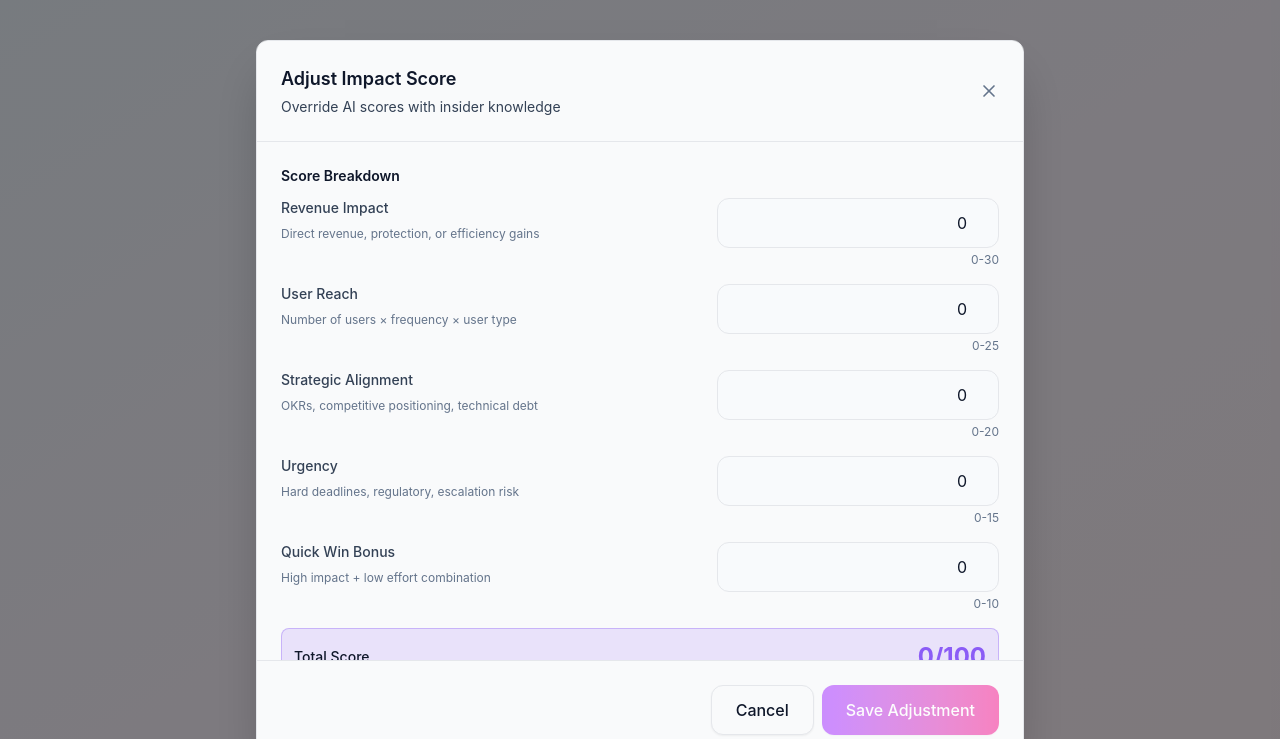
Test: ImpactAdjustmentModal › Score Breakdown Inputs › should calculate total score correctly when breakdown changes
# Set Revenue Impact to 20
Replace the text in the number field in the row of "Revenue Impact" with "20" at (858, 223), box [717, 198, 999, 248]
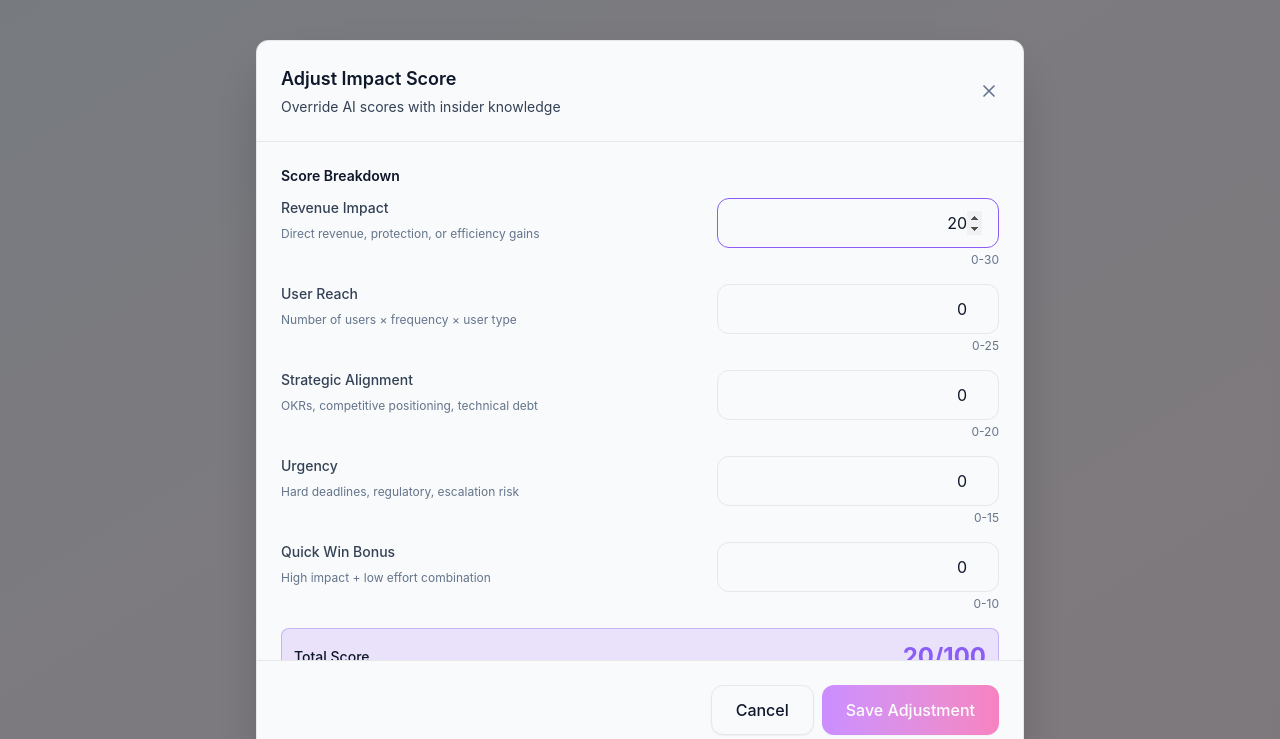
# Set User Reach to 15
Replace the text in the number field in the row of "Number of users × frequency × user type" with "15" at (858, 309), box [717, 284, 999, 334]
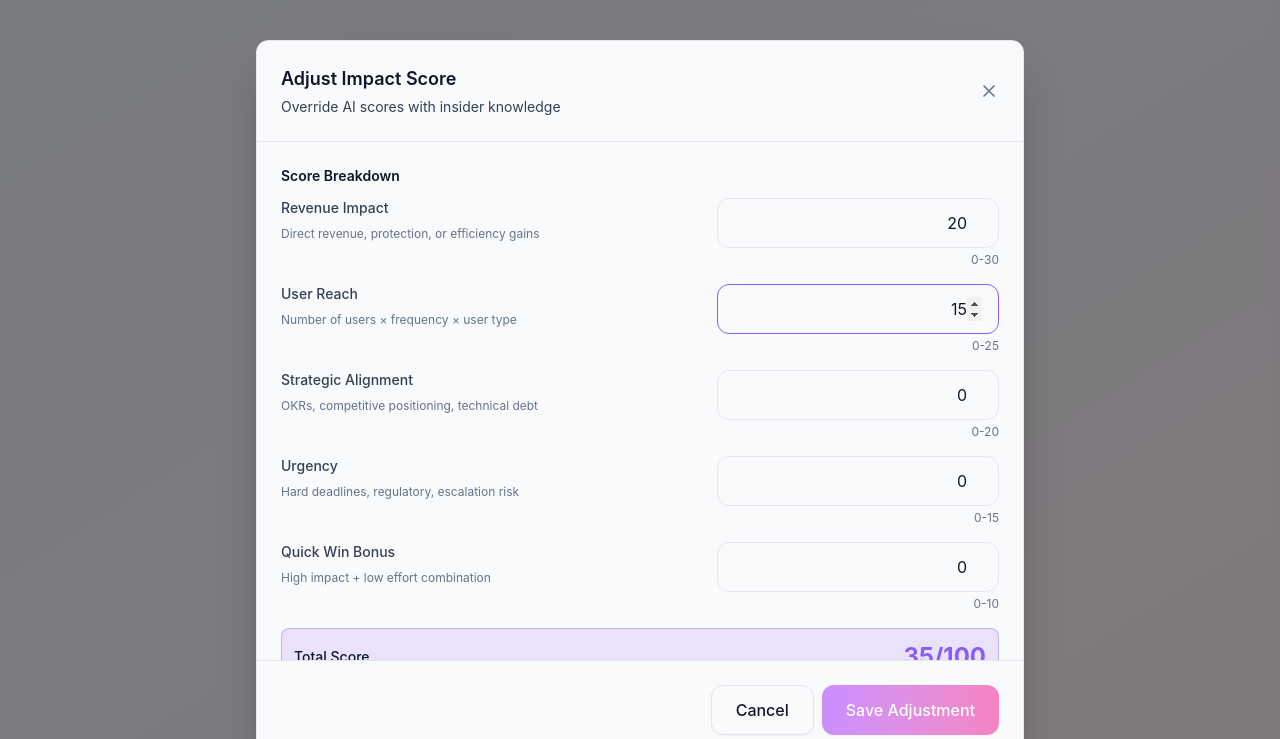
Expected: the text "35/100" is shown, [904, 641, 986, 673]
